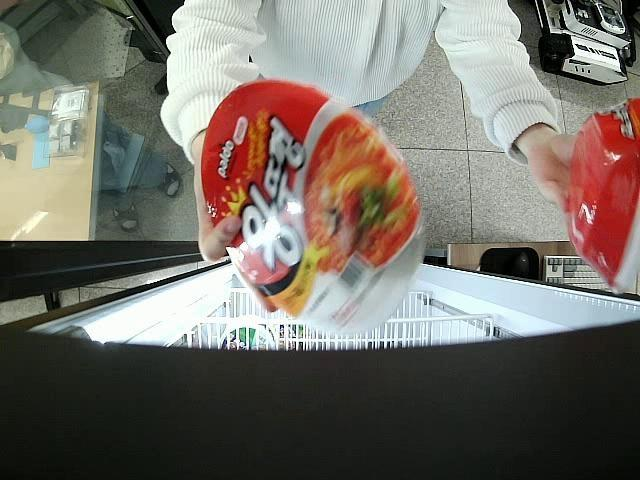10_wangTtukkeong: (201, 79, 422, 338), (563, 98, 640, 292)
